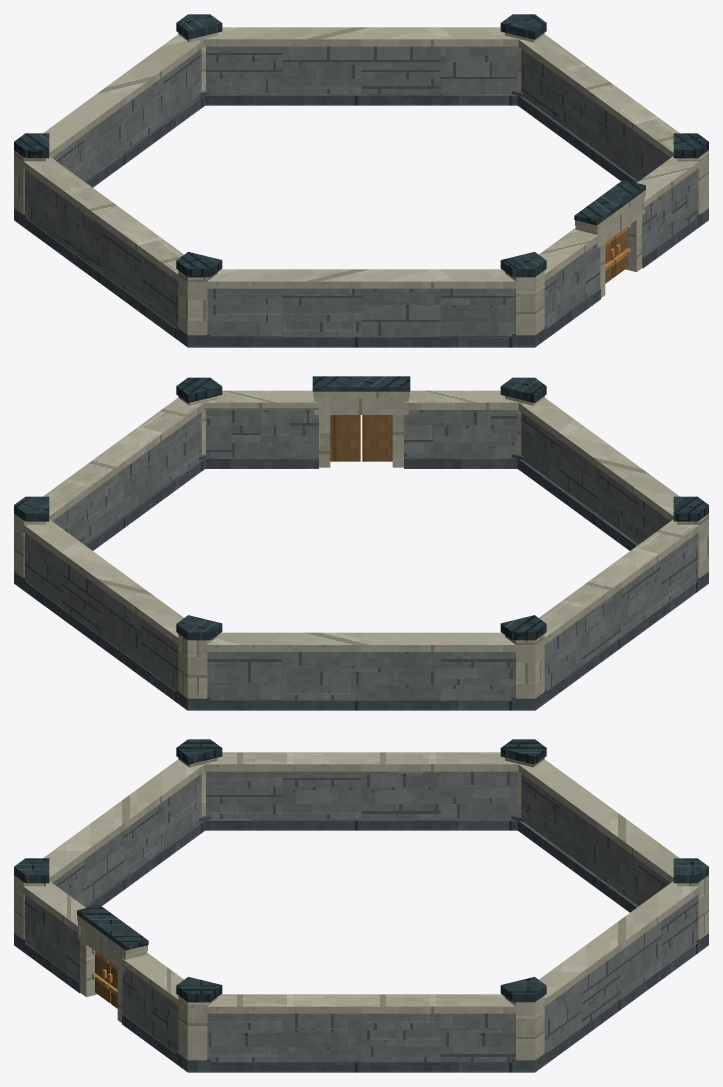
Rendered from dwarf_walls_level_1_hex_v1.glb.
The picture shows the model from 3 angles, top to bottom: view 1: azimuth 30°, elevation 25°; view 2: azimuth 150°, elevation 25°; view 3: azimuth 270°, elevation 25°; orthographic projection.
Visible parts, largest first — view 1: Dwarf_Walls_Level_1_Hex_V1_Architecture; view 2: Dwarf_Walls_Level_1_Hex_V1_Architecture; view 3: Dwarf_Walls_Level_1_Hex_V1_Architecture.
Part boxes in pixels (box(x1,y1,x2,y2)): Dwarf_Walls_Level_1_Hex_V1_Architecture: box(14, 14, 708, 347); Dwarf_Walls_Level_1_Hex_V1_Architecture: box(14, 376, 708, 710); Dwarf_Walls_Level_1_Hex_V1_Architecture: box(14, 739, 708, 1072).
Size of the model in its own units: 1.71 by 0.252 by 1.97.
1 material, 1 textured.
